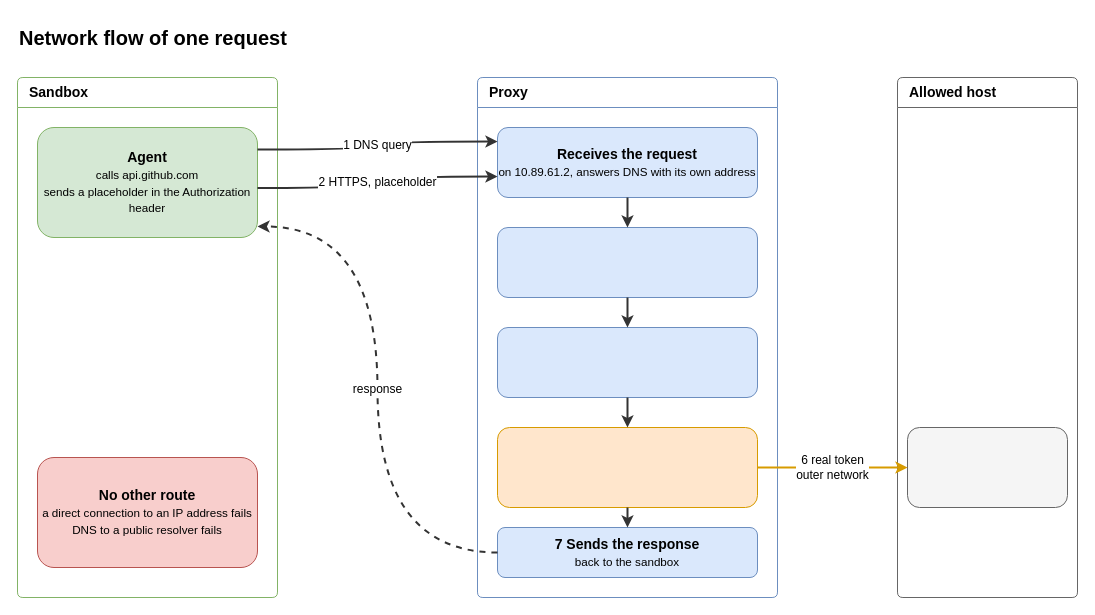
Image size: 1095x615. Some labels were removed from this diagram. Here are the shapes that lost their labels. From the top down, the centre of each, then its label:
At [627,262]: "3 Ends the TLS with its own CA. The sandbox trusts ca.crt.".
At [627,362]: "4 Checks the allowlist a host that is not listed gets 403".
At [627,467]: "5 Swaps the placeholder real token, only for the hosts of its rule".
At [987,467]: "api.github.com sees the real token".
